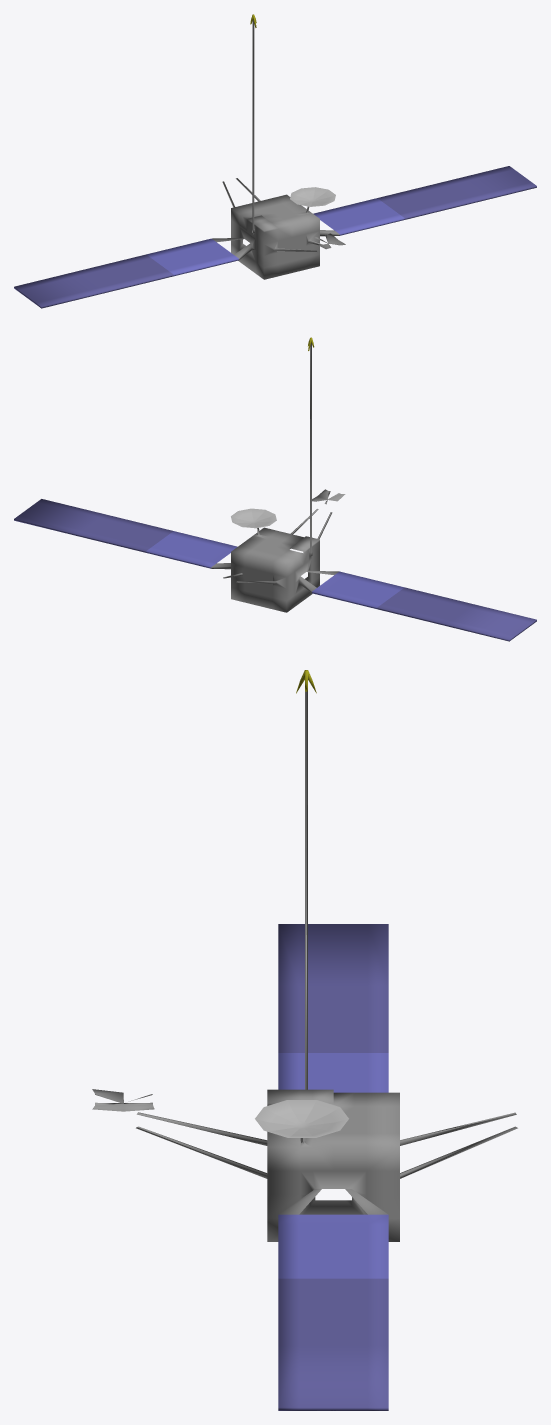
Rendered from super_dishless_sat.glb.
3 renders of one model, top to bottom at view 1: azimuth 30°, elevation 25°; view 2: azimuth 150°, elevation 25°; view 3: azimuth 270°, elevation 25°, orthographic. The views are drawn at different scales.
Parts seen in each view (by area): view 1: polySurface5, transform8; view 2: polySurface5, transform8; view 3: polySurface5, transform8.
Part boxes in pixels (left/top/right/bottom): polySurface5: left=14, top=14, right=536, bottom=308; transform8: left=290, top=187, right=335, bottom=211; polySurface5: left=14, top=337, right=536, bottom=641; transform8: left=231, top=508, right=276, bottom=533; polySurface5: left=92, top=670, right=517, bottom=1410; transform8: left=255, top=1100, right=348, bottom=1142.
Size of what is drawn, in the model's own units: 0.8866 by 0.4489 by 0.3765.
